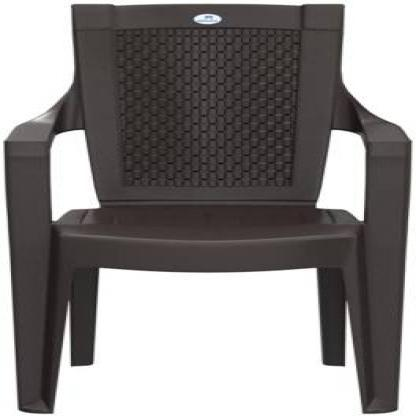chair: (3, 0, 415, 415)
